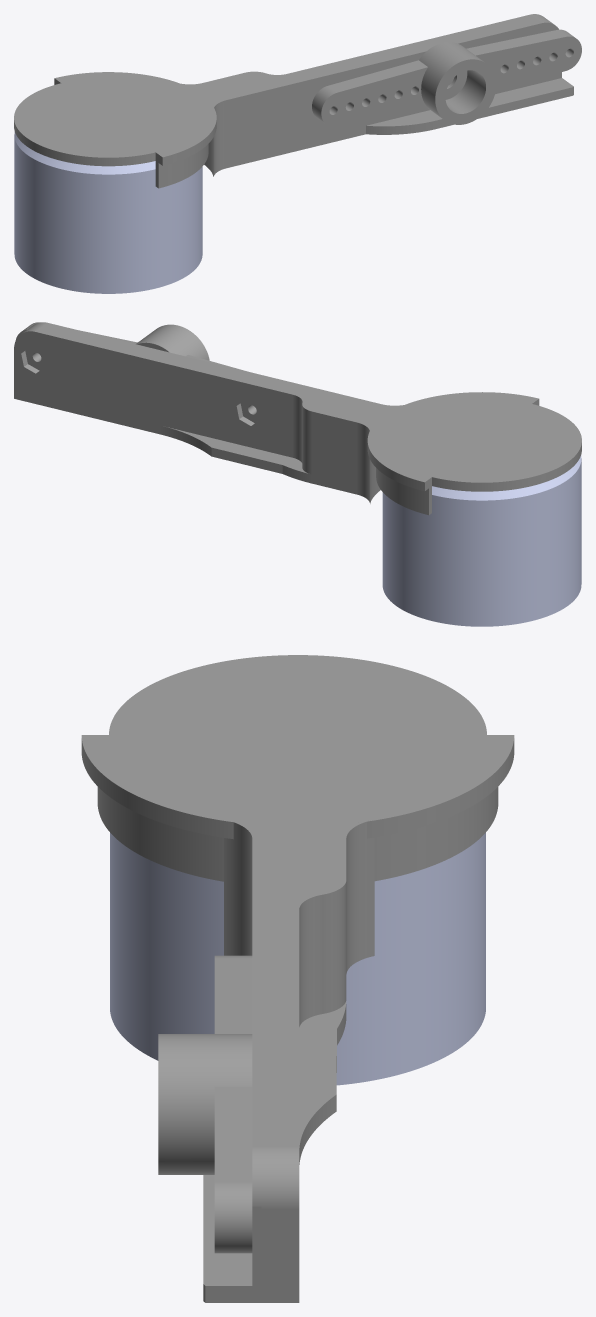
File: gripper (1).obj
3 renders of one model, top to bottom at view 1: azimuth 30°, elevation 25°; view 2: azimuth 150°, elevation 25°; view 3: azimuth 270°, elevation 25°, orthographic. The views are drawn at different scales.
Parts seen in each view (by area): view 1: Body1:1, Body1:2, Body1; view 2: Body1:1, Body1:2, Body1; view 3: Body1:1, Body1:2, Body1.
Boxes of the visible parts, box(x1,y1,x2,y2) form: Body1:1: box(14, 14, 573, 188); Body1:2: box(14, 132, 202, 293); Body1: box(312, 29, 581, 126); Body1:1: box(14, 322, 581, 515); Body1:2: box(382, 455, 581, 626); Body1: box(15, 322, 246, 371); Body1:1: box(81, 655, 514, 1302); Body1:2: box(110, 833, 485, 1085); Body1: box(158, 955, 252, 1253).
Bounding box in the file's own units: 65.62 × 16.53 × 23.
